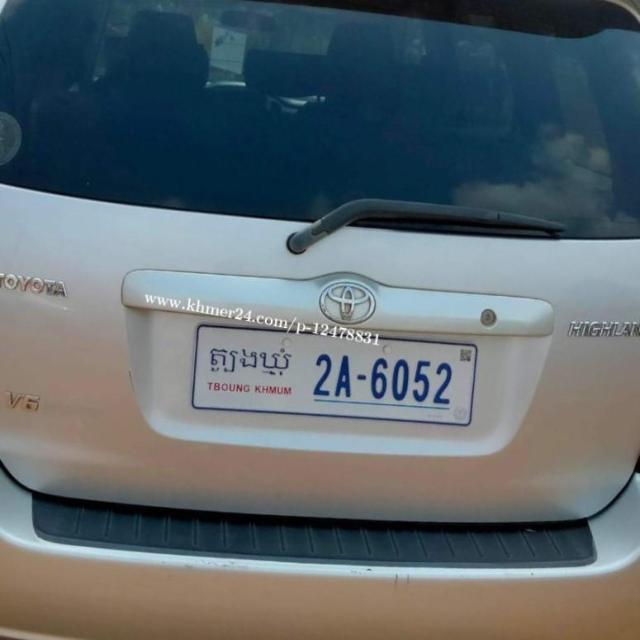Tboung_Khmum: (209, 342, 294, 378)
